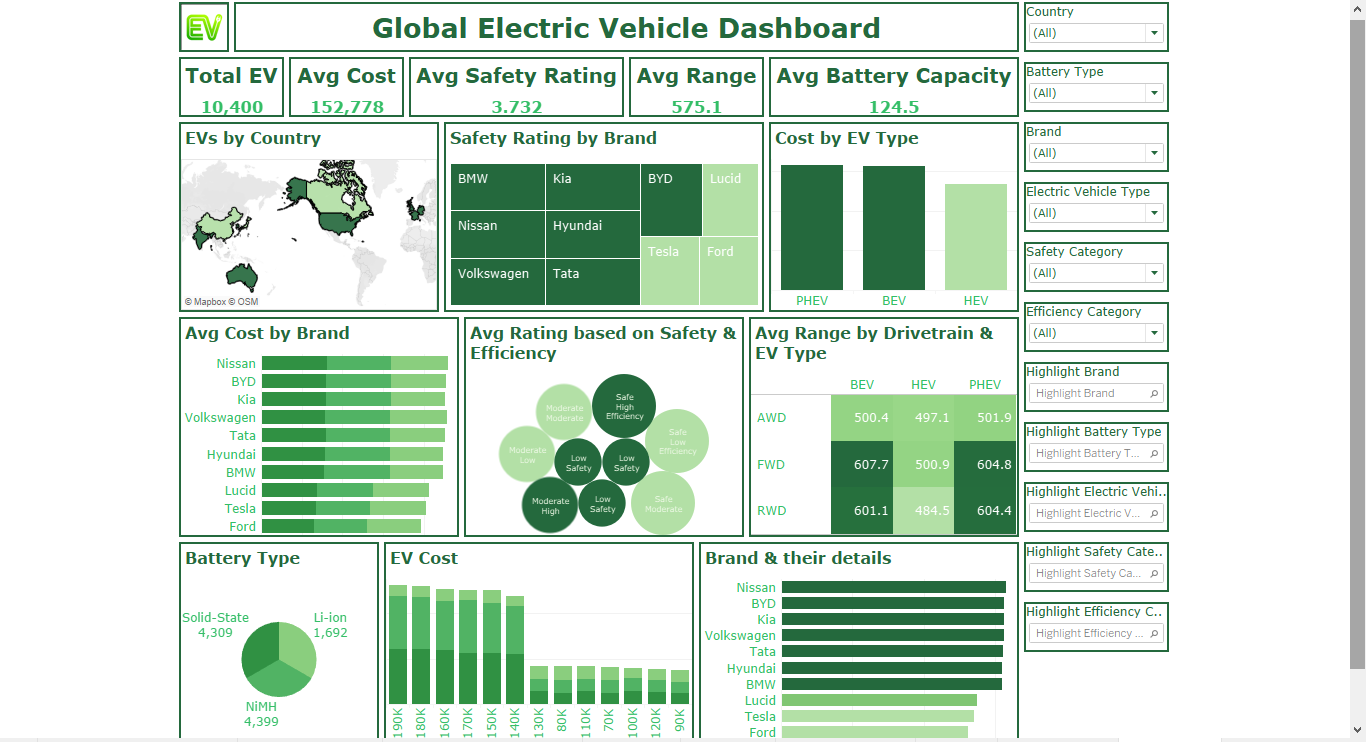

This screenshot's page, from the dashboard's own definition file:
{"tool":"tableau","page":{"name":"Dashboard 1","canvas":[1000,800],"ordinal":0},"visuals":[{"type":"image","param":"Image/Ev Logo.jpeg","box":[5,5,50,50]},{"type":"text","box":[60,5,785,50]},{"type":"filter","title":"EVs by country","param":"[federated.0ny19eq04vld8g1coc6ow1ssi75i].[none:country:nk]","box":[850,5,145,50]},{"type":"worksheet","title":"KPI - Total EVs","mark":"Text","box":[5,60,105,60]},{"type":"worksheet","title":"KPI - Avg Cost","mark":"Text","box":[115,60,115,60]},{"type":"worksheet","title":"KPI - Safety Rating","mark":"Automatic","box":[235,60,215,60]},{"type":"worksheet","title":"KPI - Range ","mark":"Automatic","box":[455,60,135,60]},{"type":"worksheet","title":"KPI - Battery Capacity","mark":"Text","box":[595,60,250,60]},{"type":"filter","title":"Cost Distribution by EV Type","param":"[federated.0ny19eq04vld8g1coc6ow1ssi75i].[none:battery type:nk]","box":[850,65,145,50]},{"type":"worksheet","title":"EVs by country","mark":"Multipolygon","box":[5,125,260,190]},{"type":"worksheet","title":"Safety Rating by Brand","mark":"Automatic","box":[270,125,320,190]},{"type":"worksheet","title":"Cost Distribution by EV Type","mark":"Automatic","rows":["cost"],"cols":["electric vehicle type"],"box":[595,125,250,190]},{"type":"filter","title":"Safety Rating by Brand","param":"[federated.0ny19eq04vld8g1coc6ow1ssi75i].[none:brand:nk]","box":[850,125,145,50]},{"type":"filter","title":"Avg Range by Drivtrain and EV Type","param":"[federated.0ny19eq04vld8g1coc6ow1ssi75i].[none:electric vehicle type:nk]","box":[850,185,145,50]},{"type":"filter","title":"Cost Distribution by EV Type","param":"[federated.0ny19eq04vld8g1coc6ow1ssi75i].[none:Calculation_1204149978237284363:n","box":[850,245,145,50]},{"type":"filter","title":"Avg Rating by Safety & Efficiency Category  ","param":"[federated.0ny19eq04vld8g1coc6ow1ssi75i].[none:Calculation_1204149978237632525:n","box":[850,305,145,50]},{"type":"worksheet","title":"Avg Cost by Brand","mark":"Automatic","rows":["brand"],"cols":["cost"],"box":[5,320,280,220]},{"type":"worksheet","title":"Avg Rating by Safety & Efficiency Category  ","mark":"Circle","box":[290,320,280,220]},{"type":"worksheet","title":"Avg Range by Drivtrain and EV Type","mark":"Square","rows":["drivetrain"],"cols":["electric vehicle type"],"box":[575,320,270,220]},{"type":"highlighter","title":"Brand","param":"[federated.0ny19eq04vld8g1coc6ow1ssi75i].[none:brand:nk]","box":[850,365,145,50]},{"type":"highlighter","title":"Battery Type Share","param":"[federated.0ny19eq04vld8g1coc6ow1ssi75i].[none:battery type:nk]","box":[850,425,145,50]},{"type":"highlighter","title":"Avg Range by Drivtrain and EV Type","param":"[federated.0ny19eq04vld8g1coc6ow1ssi75i].[none:electric vehicle type:nk]","box":[850,485,145,50]},{"type":"worksheet","title":"Battery Type Share","mark":"Pie","box":[5,545,200,200]},{"type":"worksheet","title":"EV Costs","mark":"Automatic","rows":["Calculation_1204149978220249088"],"cols":["Cost (bin)"],"box":[210,545,310,200]},{"type":"worksheet","title":"Brand","mark":"Automatic","rows":["brand"],"cols":["Calculation_1204149978220793857"],"box":[525,545,320,200]},{"type":"highlighter","title":"Avg Rating by Safety & Efficiency Category  ","param":"[federated.0ny19eq04vld8g1coc6ow1ssi75i].[none:Calculation_1204149978237284363:n","box":[850,545,145,50]},{"type":"highlighter","title":"Avg Rating by Safety & Efficiency Category  ","param":"[federated.0ny19eq04vld8g1coc6ow1ssi75i].[none:Calculation_1204149978237632525:n","box":[850,605,145,50]}]}

Visuals, with their boxes in screenshot pixels (x1, y1, x2, y2):
image: (218,5,266,52)
text: (270,5,1016,52)
"EVs by country" filter: (1021,5,1159,52)
"KPI - Total EVs" worksheet (Text marks): (218,57,318,114)
"KPI - Avg Cost" worksheet (Text marks): (323,57,432,114)
"KPI - Safety Rating" worksheet: (437,57,641,114)
"KPI - Range " worksheet: (646,57,774,114)
"KPI - Battery Capacity" worksheet (Text marks): (779,57,1016,114)
"Cost Distribution by EV Type" filter: (1021,62,1159,109)
"EVs by country" worksheet (Multipolygon marks): (218,119,465,299)
"Safety Rating by Brand" worksheet: (470,119,774,299)
"Cost Distribution by EV Type" worksheet: (779,119,1016,299)
"Safety Rating by Brand" filter: (1021,119,1159,166)
"Avg Range by Drivtrain and EV Type" filter: (1021,176,1159,223)
"Cost Distribution by EV Type" filter: (1021,233,1159,280)
"Avg Rating by Safety & Efficiency Category  " filter: (1021,290,1159,337)
"Avg Cost by Brand" worksheet: (218,304,484,513)
"Avg Rating by Safety & Efficiency Category  " worksheet (Circle marks): (489,304,755,513)
"Avg Range by Drivtrain and EV Type" worksheet (Square marks): (760,304,1016,513)
"Brand" highlighter: (1021,347,1159,394)
"Battery Type Share" highlighter: (1021,404,1159,451)
"Avg Range by Drivtrain and EV Type" highlighter: (1021,461,1159,508)
"Battery Type Share" worksheet (Pie marks): (218,518,408,708)
"EV Costs" worksheet: (413,518,708,708)
"Brand" worksheet: (712,518,1016,708)
"Avg Rating by Safety & Efficiency Category  " highlighter: (1021,518,1159,565)
"Avg Rating by Safety & Efficiency Category  " highlighter: (1021,575,1159,622)
